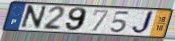2: (42, 6, 67, 32)
5: (109, 10, 131, 34)
7: (92, 9, 111, 33)
9: (65, 7, 90, 33)
J: (130, 10, 156, 36)
N: (18, 5, 49, 31)
